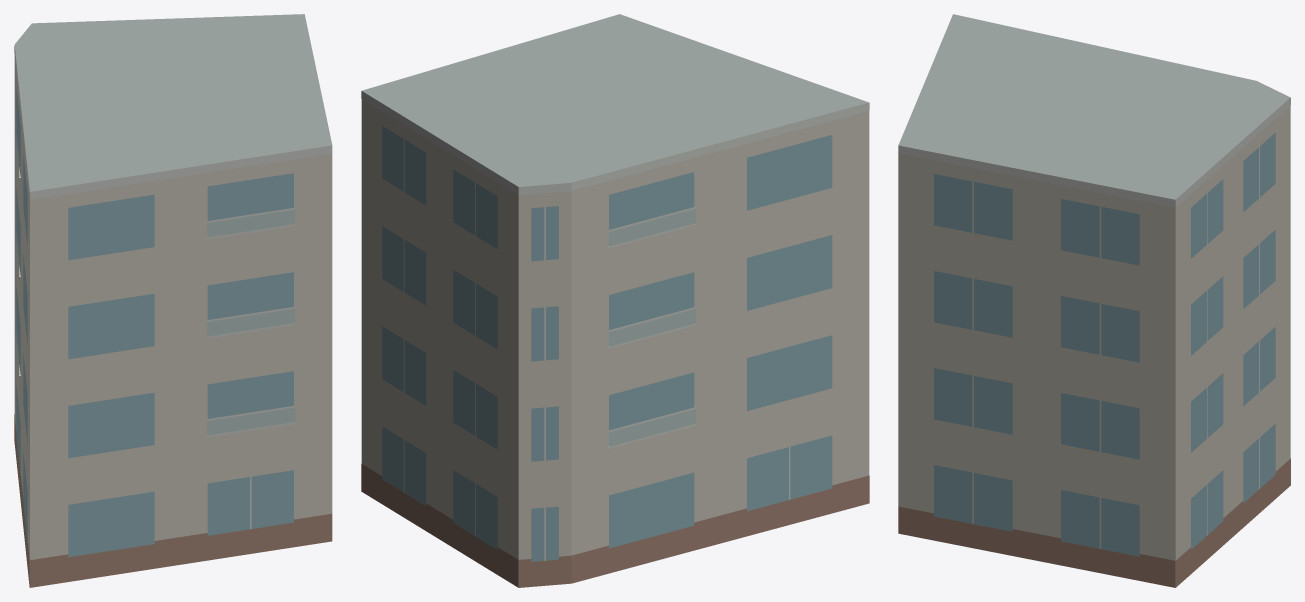
The model's file is survey-upis-32971023.glb.
3 renders of one model, left to right at view 1: azimuth 30°, elevation 25°; view 2: azimuth 150°, elevation 25°; view 3: azimuth 270°, elevation 25°, orthographic. The views are drawn at different scales.
Visible parts, largest first — view 1: survey-upis-32971023.tmp; view 2: survey-upis-32971023.tmp; view 3: survey-upis-32971023.tmp.
Part boxes in pixels (x1=…): survey-upis-32971023.tmp: x1=14, y1=14, x2=332, y2=587; survey-upis-32971023.tmp: x1=361, y1=14, x2=869, y2=587; survey-upis-32971023.tmp: x1=898, y1=14, x2=1290, y2=587.
Size of the model in its own units: 12.22 by 11.9 by 10.91.
